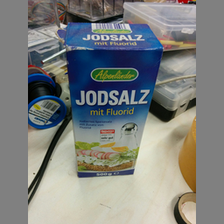spices: (64, 21, 164, 178)
